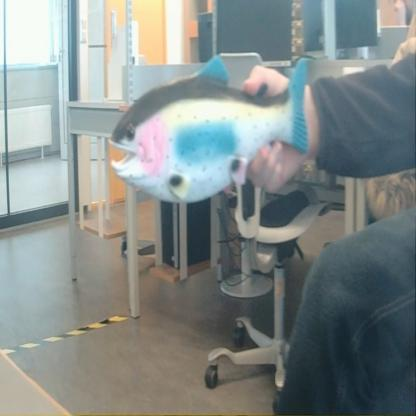rubberfish: (106, 48, 314, 207)
